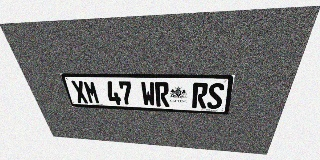4: (104, 81, 122, 105)
7: (118, 81, 134, 105)
M: (83, 81, 101, 104)
R: (192, 82, 208, 108), (155, 82, 170, 107)
S: (207, 83, 225, 109)
W: (140, 82, 156, 106)
X: (70, 80, 89, 103)
